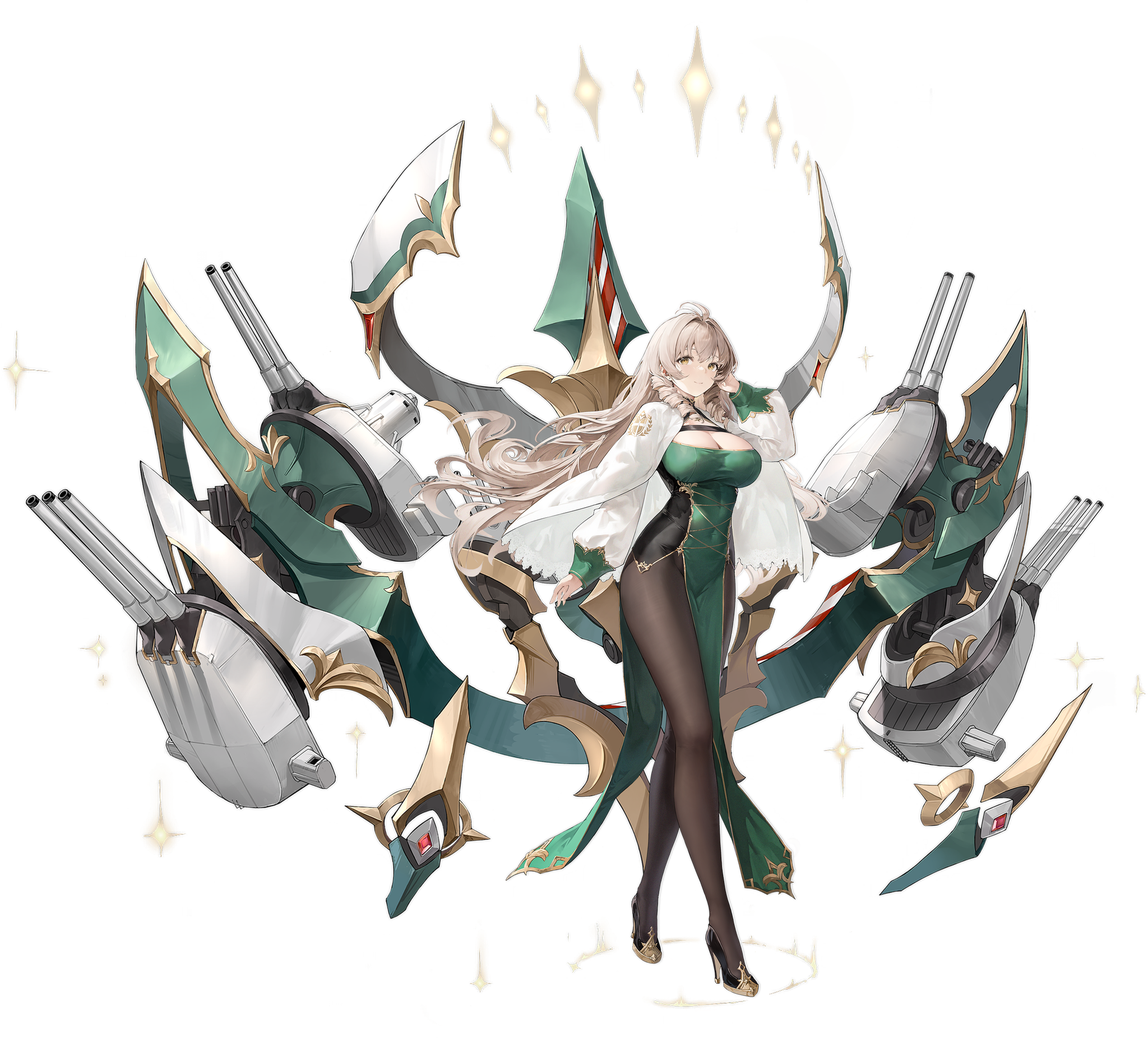person: (372, 274, 827, 1031)
